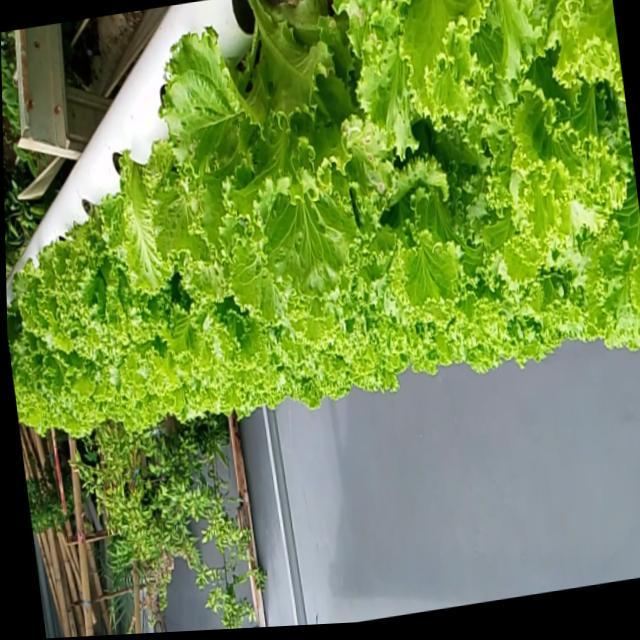Mature: (6, 0, 640, 448), (150, 5, 358, 308), (7, 181, 157, 405)
